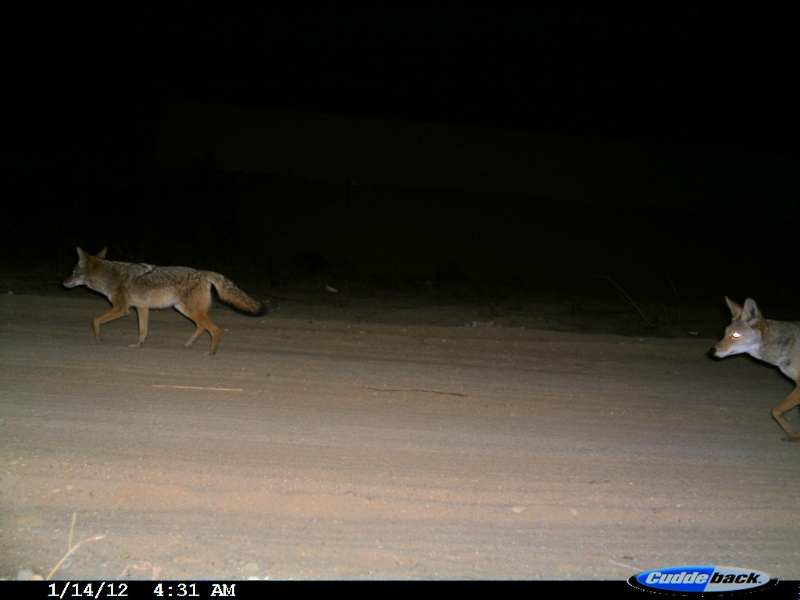coyote: (60, 243, 271, 358), (711, 293, 800, 440)
